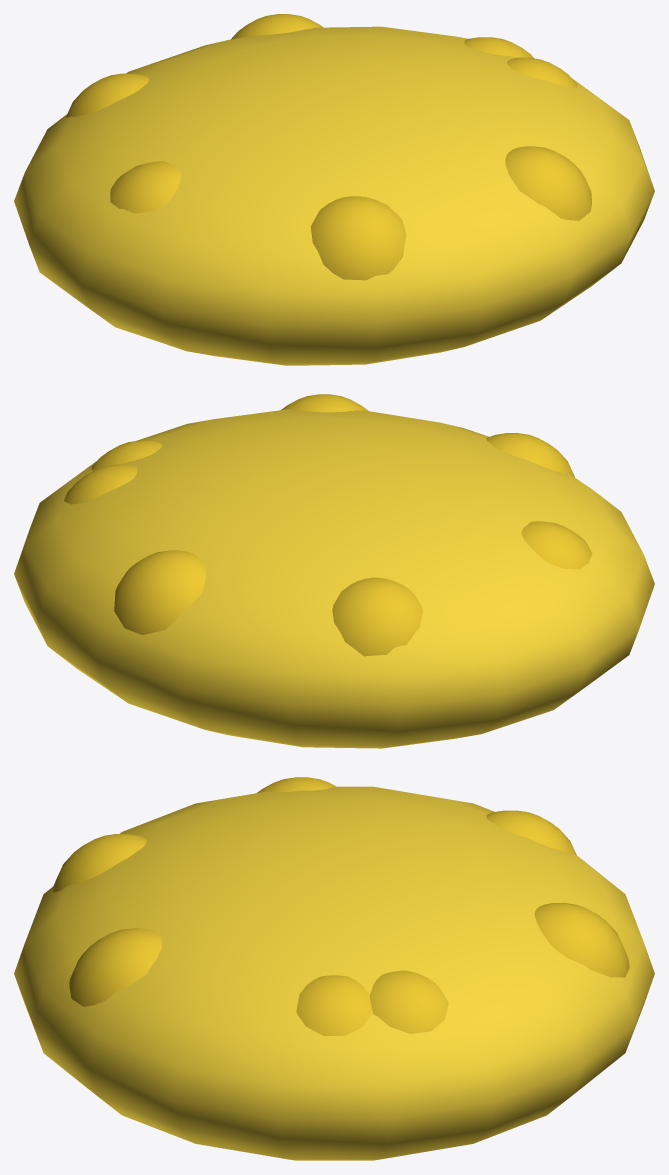
Rendered from enxofre.glb.
3 renders of one model, top to bottom at view 1: azimuth 30°, elevation 25°; view 2: azimuth 150°, elevation 25°; view 3: azimuth 270°, elevation 25°, orthographic. The views are drawn at different scales.
Visible parts, largest first — view 1: enxofre; view 2: enxofre; view 3: enxofre.
Part boxes in pixels (x1,y1,x2,y2): enxofre: (14,14,654,365); enxofre: (14,394,654,748); enxofre: (14,777,654,1160).
Size of the model in its own units: 1.65 by 0.63 by 1.54.
